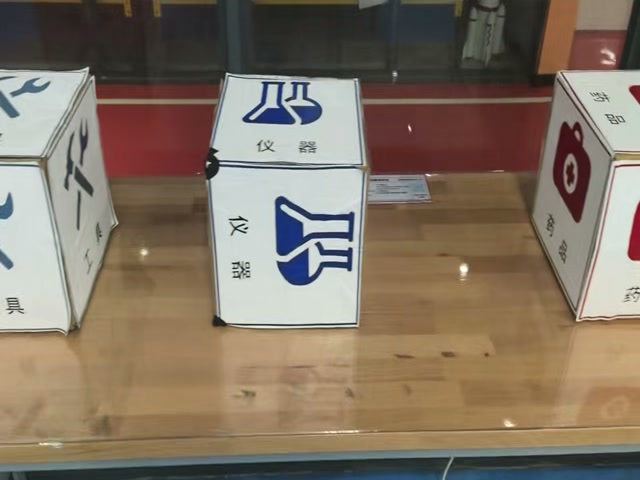Cube_ins: (207, 74, 367, 169)
Cube_medicine: (559, 67, 639, 163)
Cube_tool: (0, 70, 93, 166)
